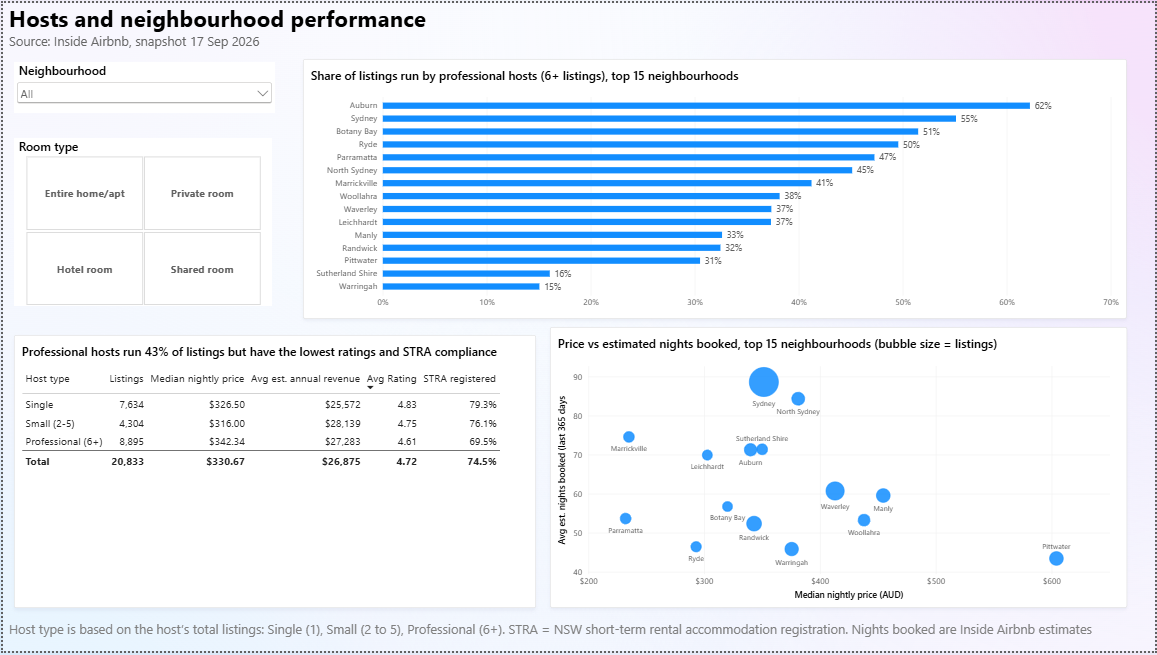

The dashboard page shown, as its layout file describes it:
{"tool":"powerbi","page":{"name":"Hosts and neighbourhood performance","canvas":[1920,1080],"ordinal":2},"visuals":[{"type":"textbox","box":[10,0,878.3,93.3],"z":0},{"type":"slicer","title":"Neighbourhood","fields":{"Values":["Neighbourhood.neighbourhood"]},"box":[18.3,98.3,435,85],"z":1},{"type":"slicer","fields":{"Values":["RoomType.room_type"]},"box":[18.3,225,430,280],"z":2},{"type":"tableEx","title":"Professional hosts run 43% of listings but have the lowest ratings and STRA compliance","fields":{"Values":["HostType.host_type","_Measures.Listings","_Measures.Median Price","_Measures.Avg Est Revenue","_Measures.Avg Rating","_Measures.STRA Registered %"]},"box":[18.3,553.3,870,455],"z":3},{"type":"clusteredBarChart","title":"Share of listings run by professional hosts (6+ listings), top 15 neighbourhoods","fields":{"Category":["Neighbourhood.neighbourhood"],"Y":["_Measures.Professional Host Share %"]},"box":[500,93.3,1373.3,433.3],"z":4},{"type":"scatterChart","title":"Price vs estimated nights booked, top 15 neighbourhoods (bubble size = listings)","fields":{"Category":["Neighbourhood.neighbourhood"],"Size":["_Measures.Listings"],"X":["_Measures.Median Price"],"Y":["_Measures.Avg Nights Booked"]},"box":[911.7,540,961.7,468.3],"z":5},{"type":"textbox","box":[10,1028.3,1883.3,51.7],"z":6}]}

Visuals, with their boxes in screenshot pixels (x1, y1, x2, y2), scaled from the page's 1920x1080 canvas onto the 1157x655 screenshot:
textbox: <region>6, 0, 535, 57</region>
"Neighbourhood" slicer: <region>11, 60, 273, 111</region>
slicer - RoomType.room_type: <region>11, 136, 270, 306</region>
"Professional hosts run 43% of listings but have the lowest ratings and STRA compliance" tableEx: <region>11, 336, 535, 612</region>
"Share of listings run by professional hosts (6+ listings), top 15 neighbourhoods" clusteredBarChart: <region>301, 57, 1129, 319</region>
"Price vs estimated nights booked, top 15 neighbourhoods (bubble size = listings)" scatterChart: <region>549, 328, 1129, 612</region>
textbox: <region>6, 624, 1141, 654</region>
